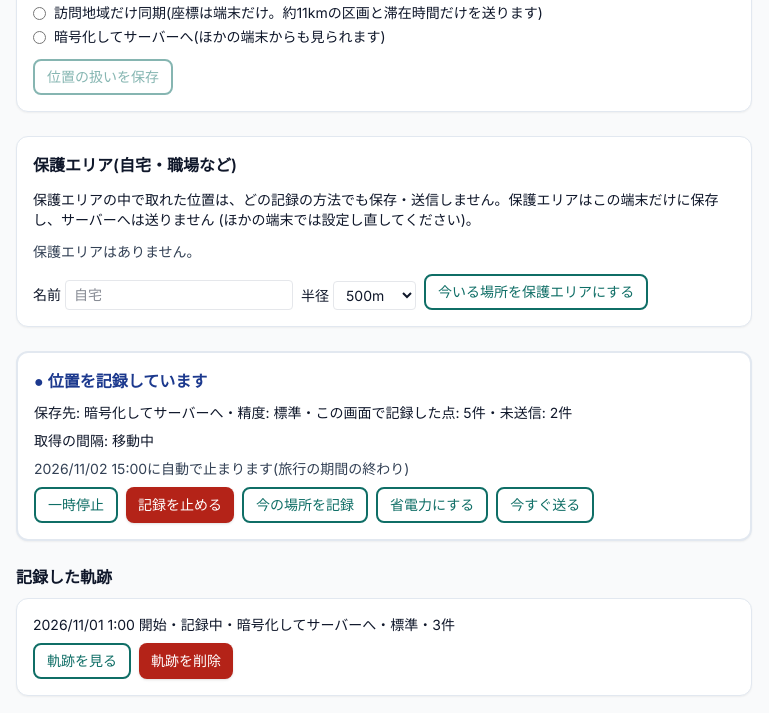
Scenario: LocationTrackPage (Gate P13) › 暗号化してサーバーへ: 取得した位置を溜め、「今すぐ送る」でbatch_id付きで送る
(page scrolled)
Check: the text "● 位置を記録しています" is shown, box x1=34 y1=371 x2=207 y2=391
Check: the text "保存先: 暗号化してサーバーへ・精度: 標準・この画面で記録した点: 5件・未送信: 2件" is shown, box x1=34 y1=404 x2=572 y2=421
Click the button "今すぐ送る". click: (545,505)
box: x1=496 y1=487 x2=594 y2=523
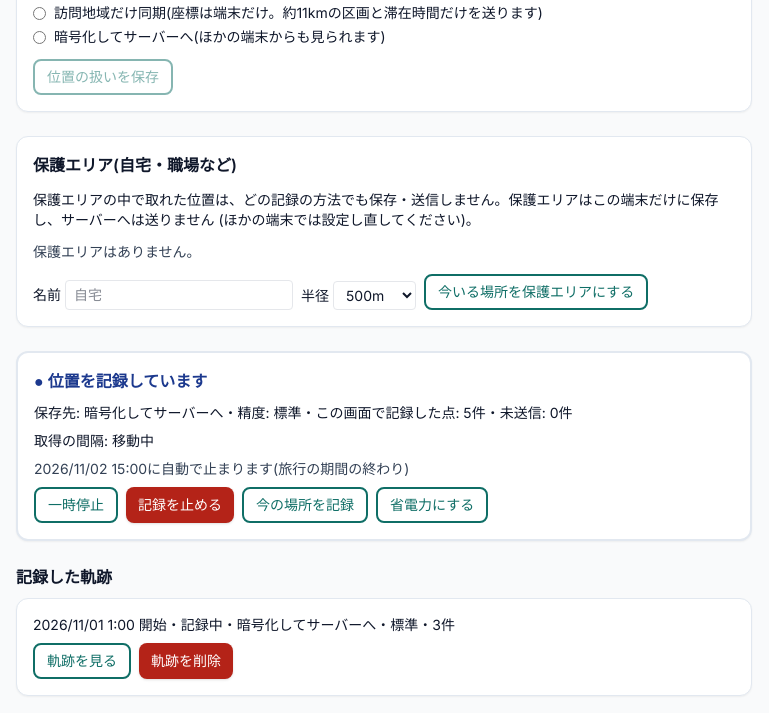
Check: the button "今すぐ送る" is gone
